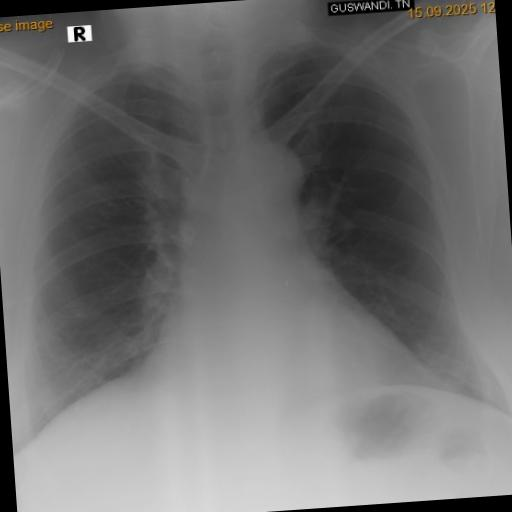kardiomegali: (0, 18, 512, 456)
